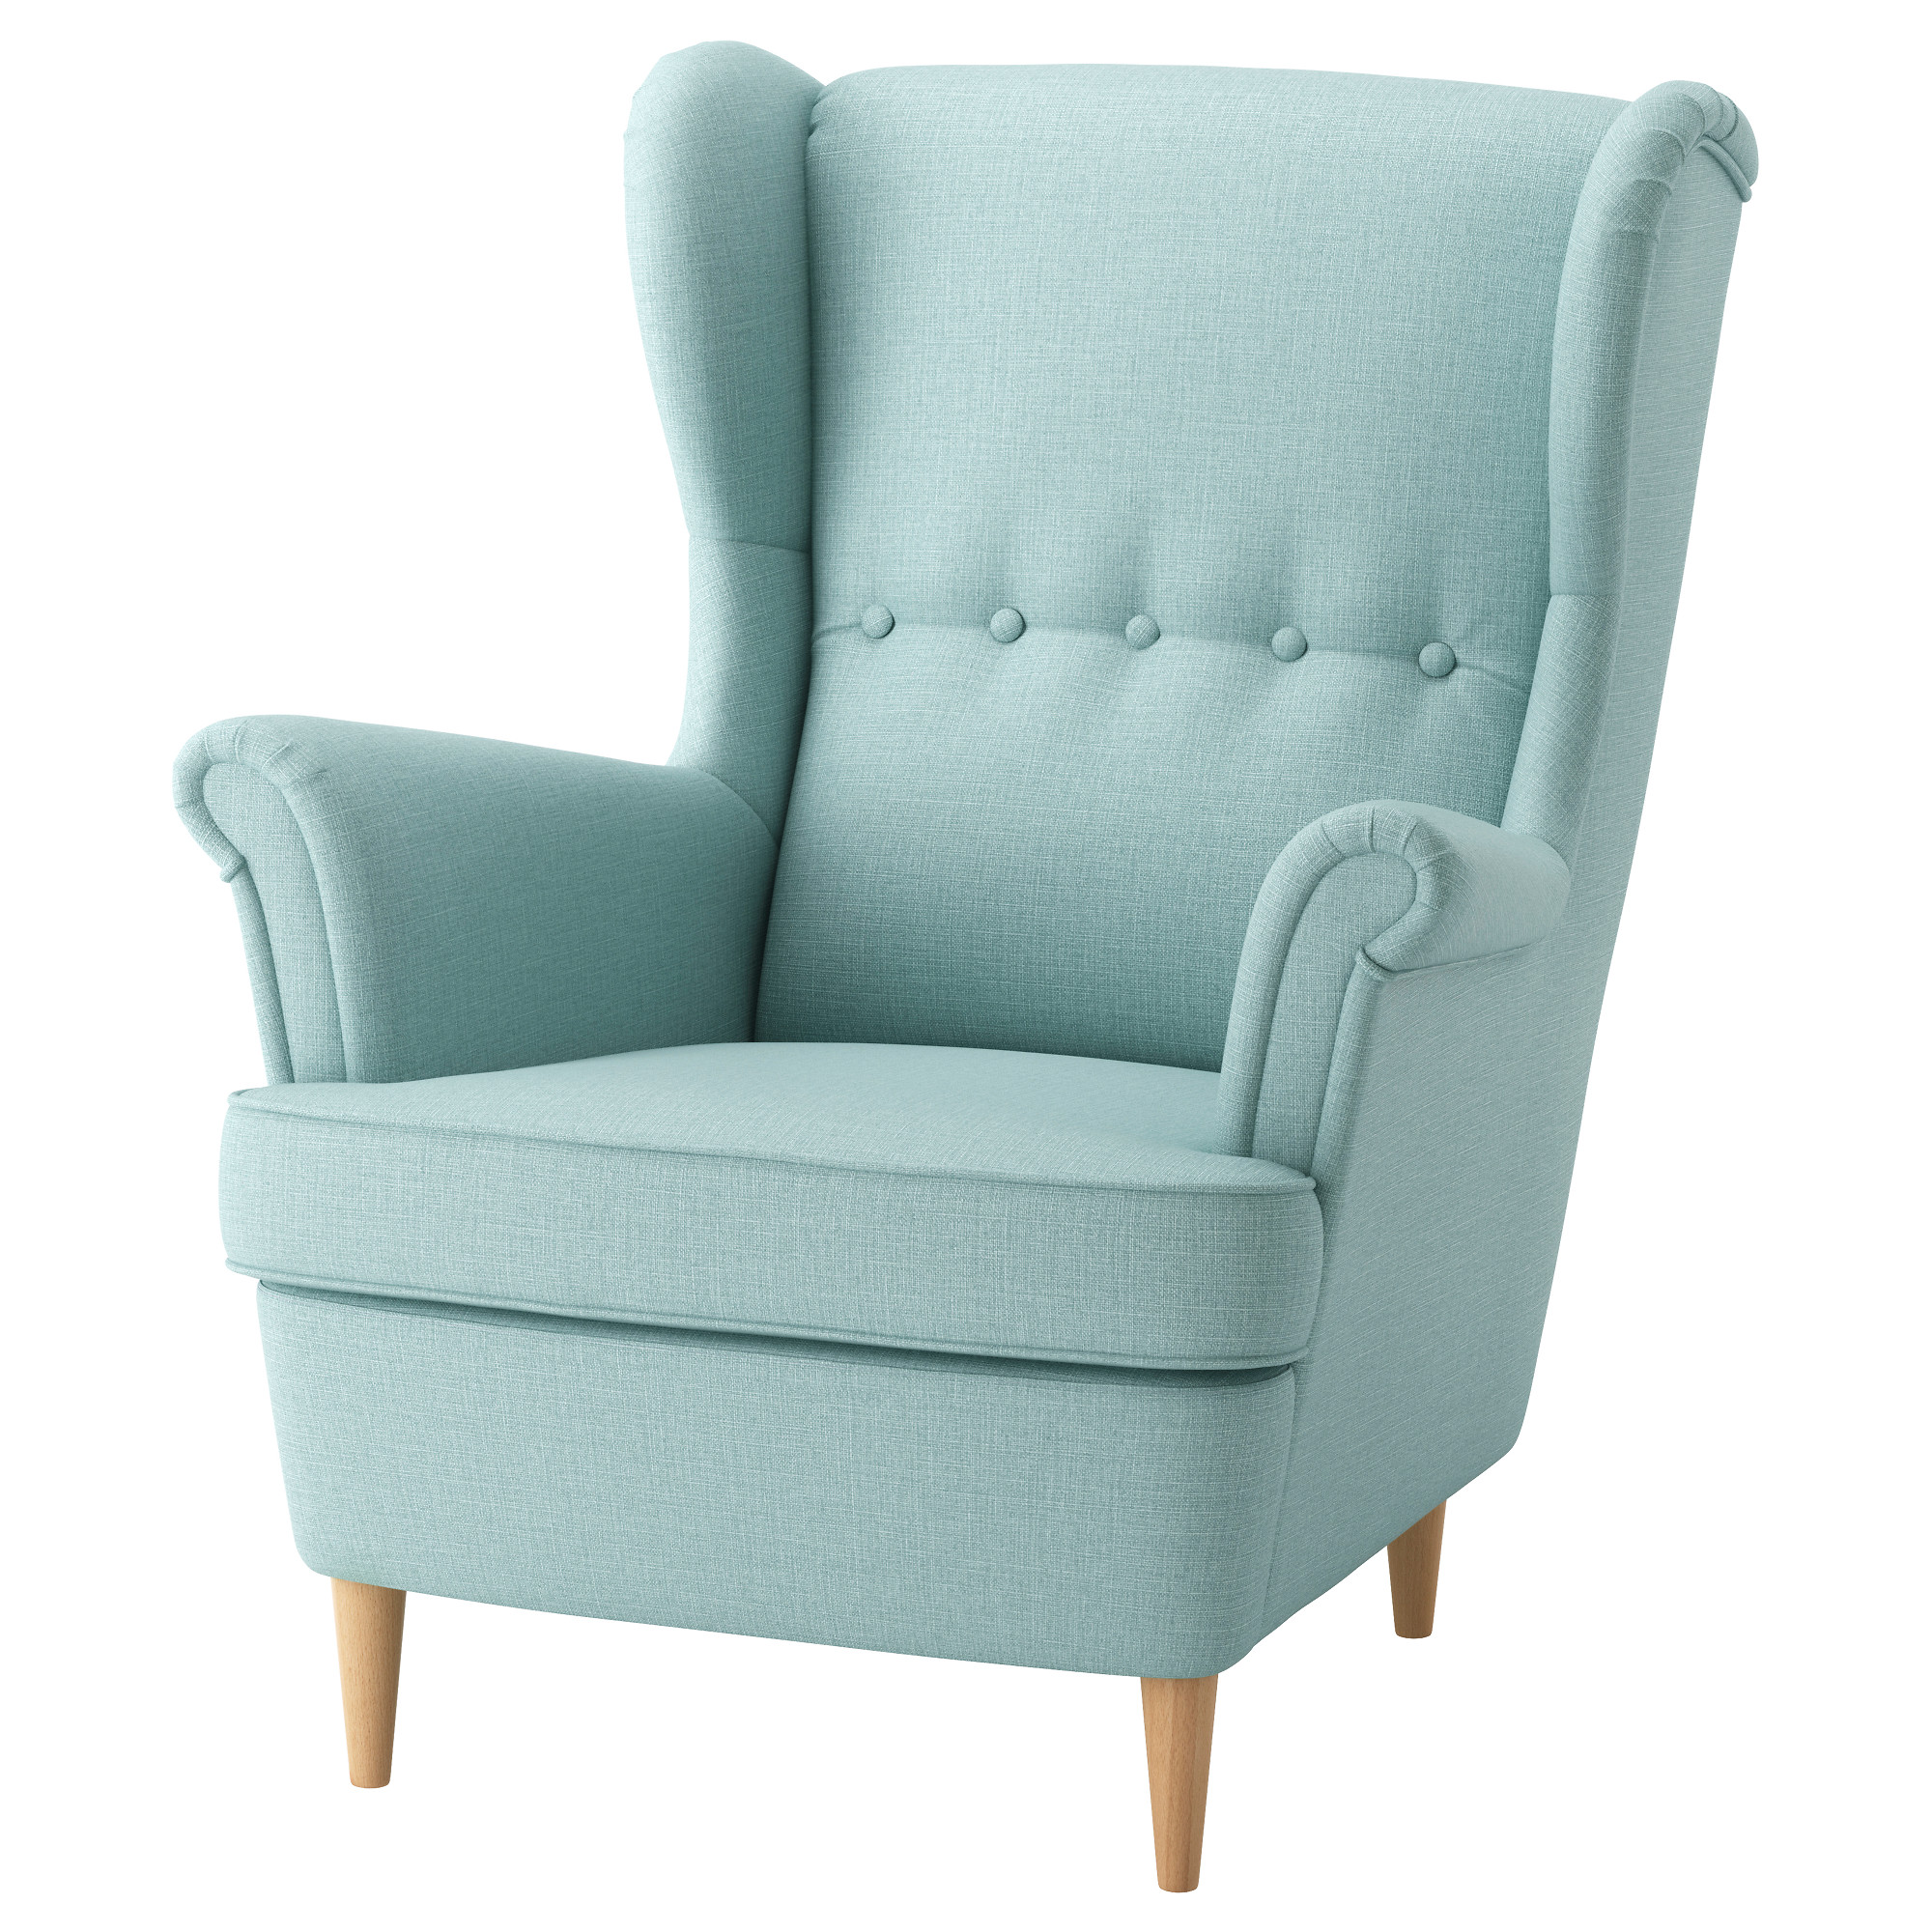chairs: (175, 34, 1748, 1909)
